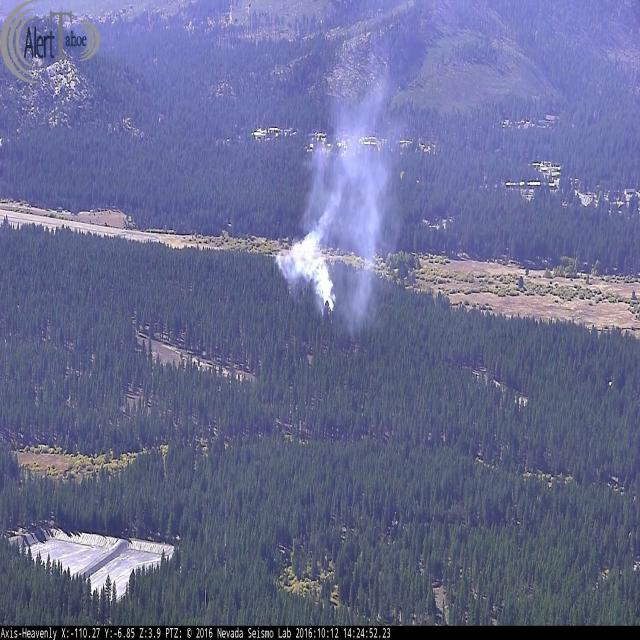smoke: (269, 52, 408, 358)
